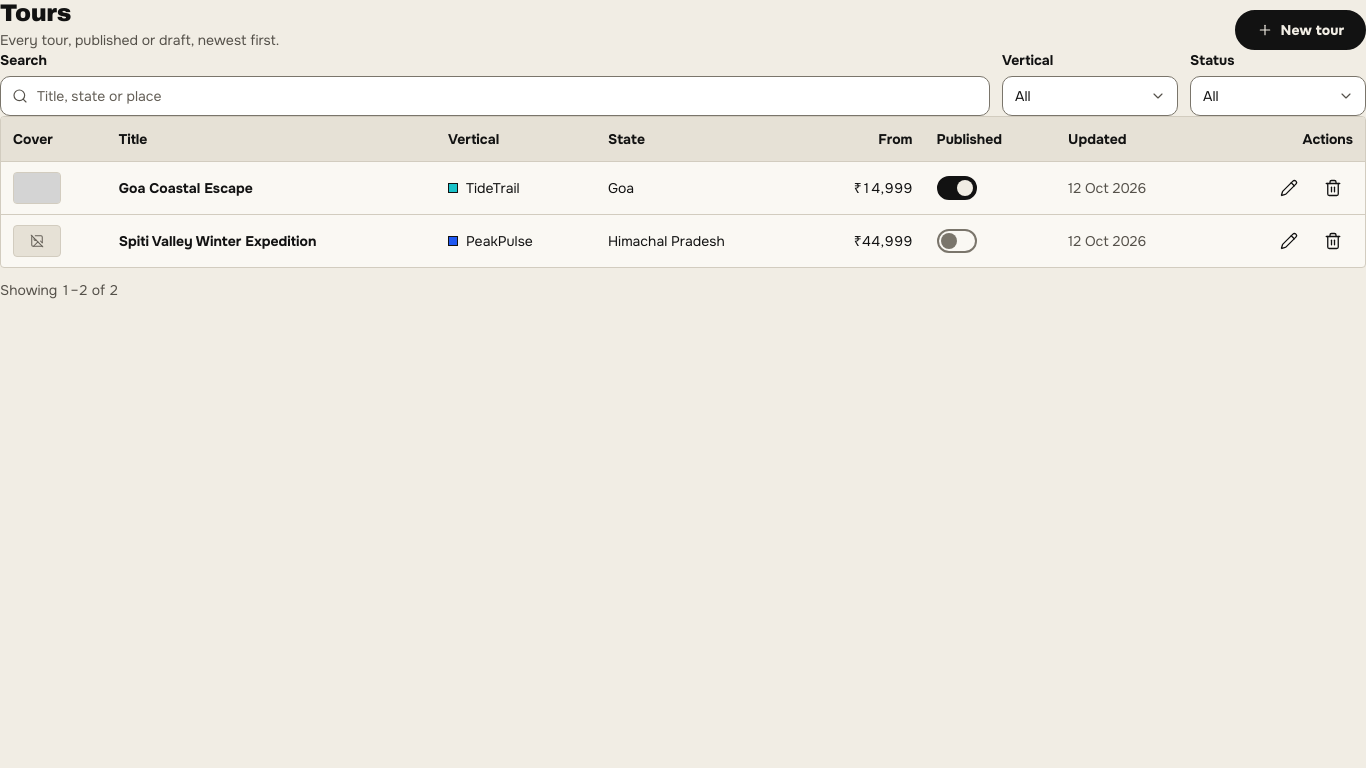
Test: ToursPage › offers to unpublish a tour that has bookings instead of deleting it
Expected: the table named "Tours" is shown, 1,117 -> 1365,267
Expected: the text "Goa Coastal Escape" is shown, 107,162 -> 436,215
Click the button named "Delete Goa Coastal Escape" at (1333, 188), box 1313,168 -> 1353,208
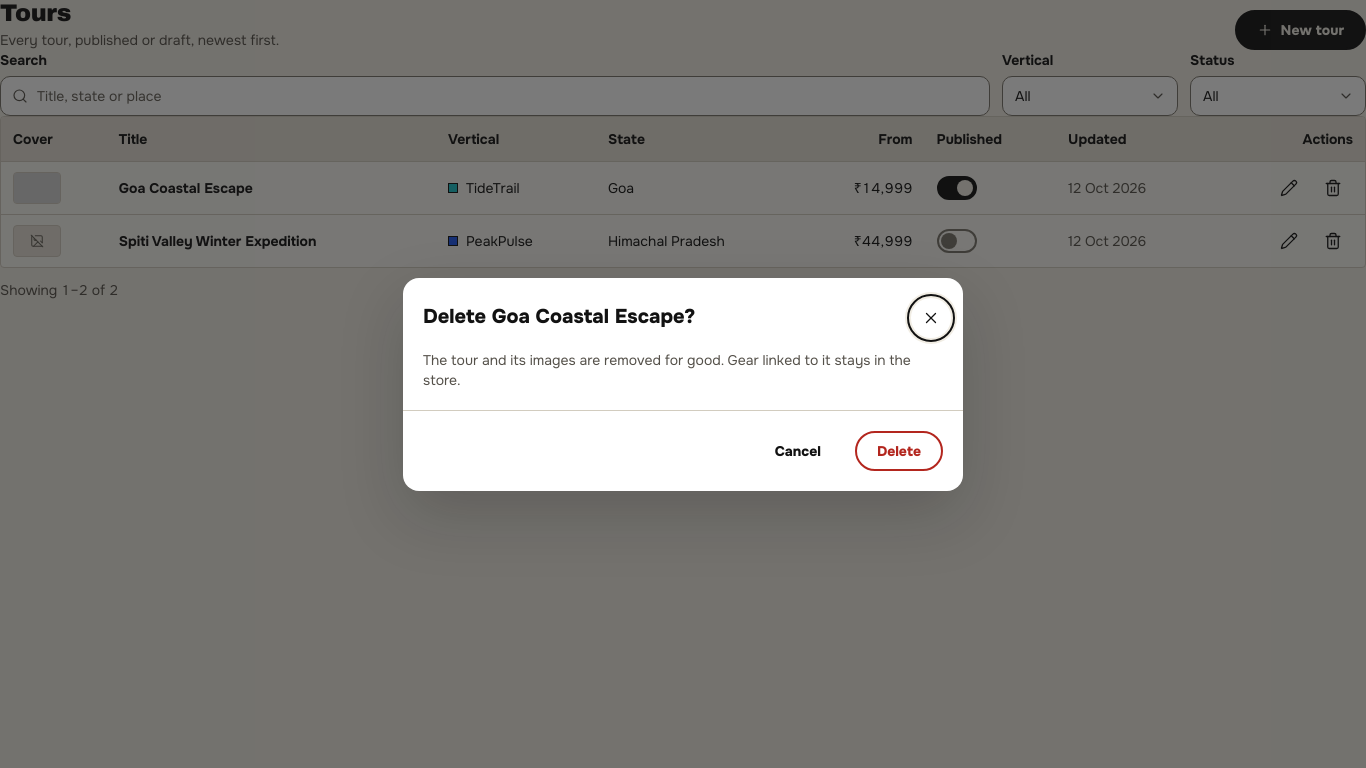
Click the button "Delete" at (899, 450), box 855,430 -> 943,470
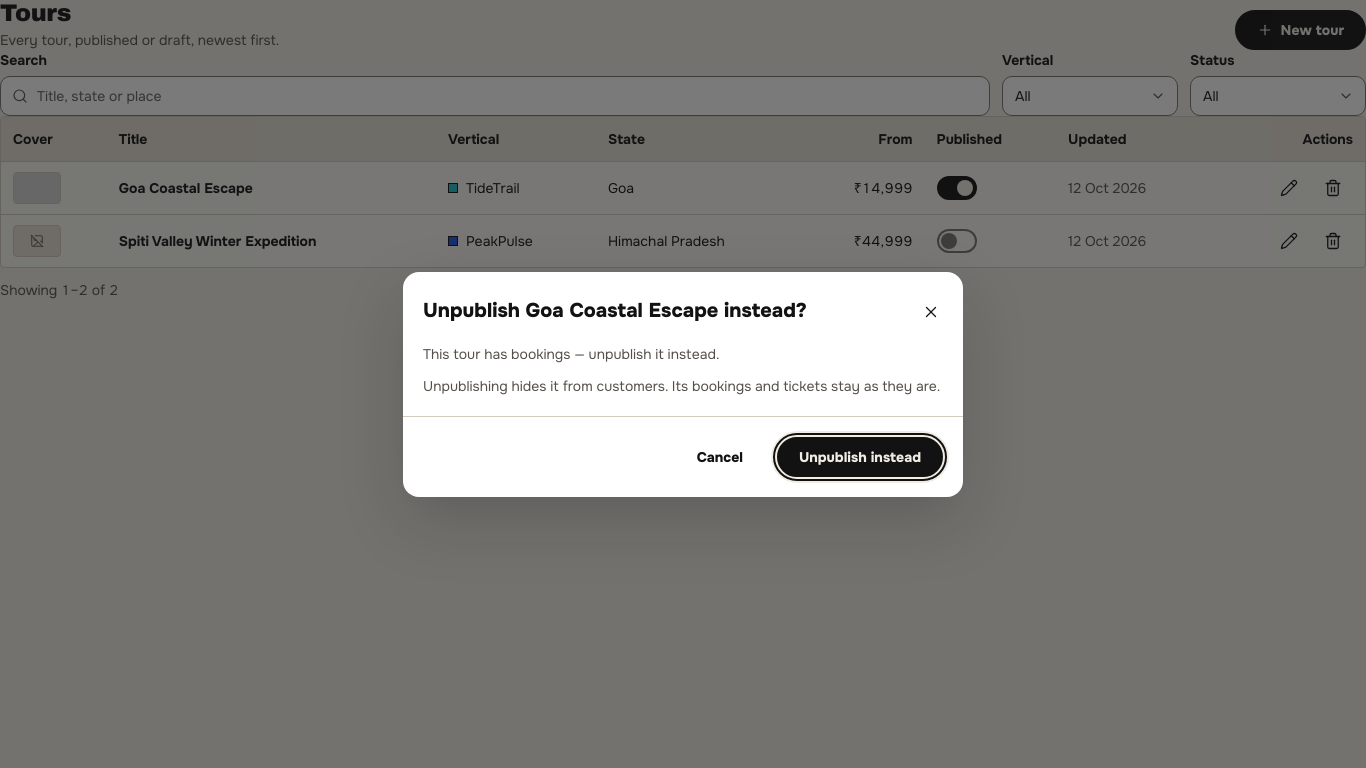
Click the button "Unpublish instead" at (860, 456), box 777,436 -> 943,476
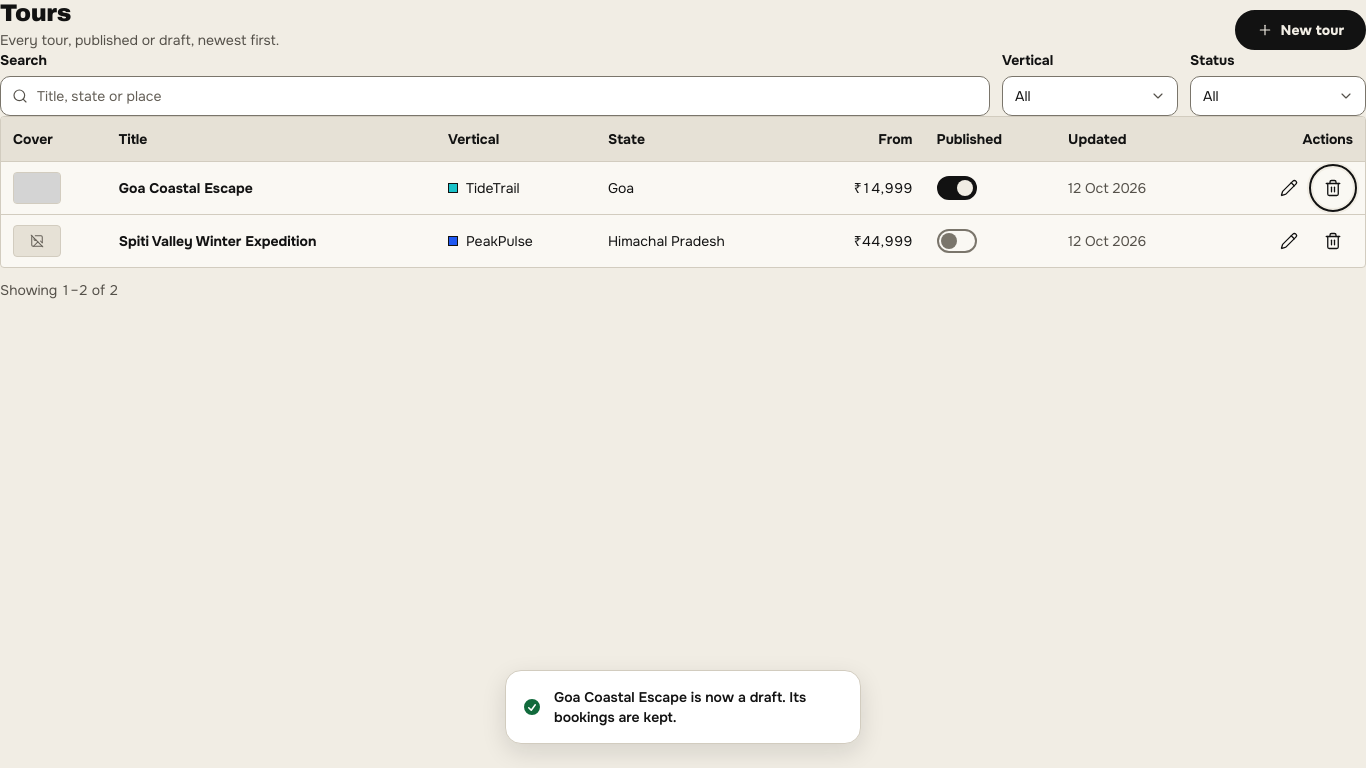
Result: the dialog is gone
